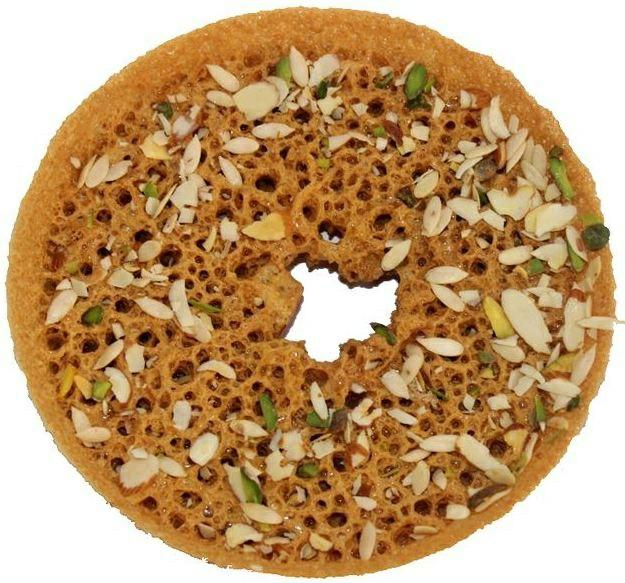Ghevar: (6, 5, 617, 578)
